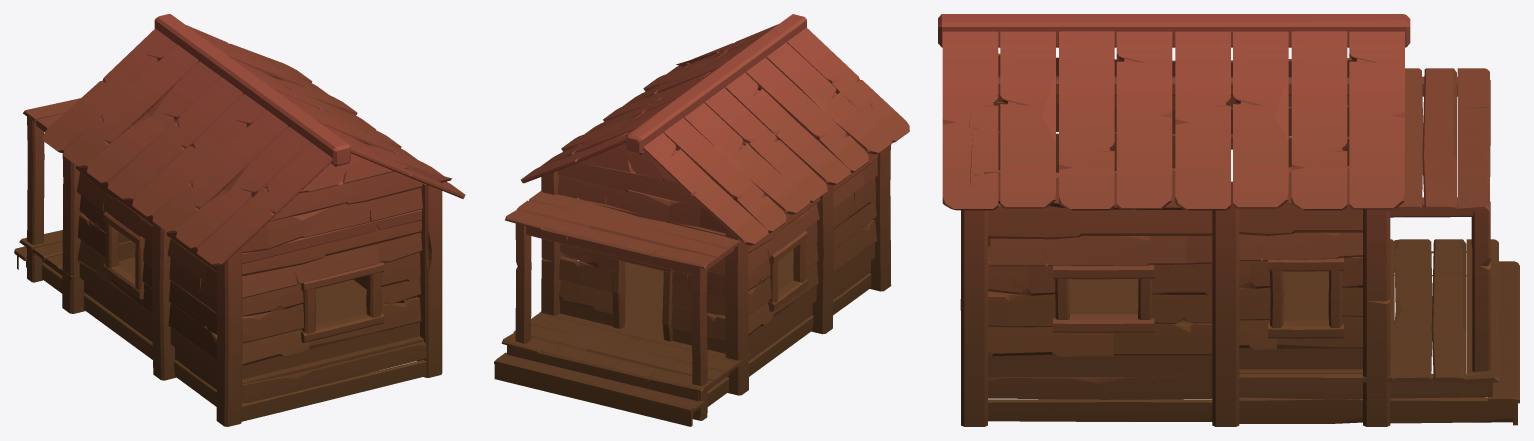
3 renders of one model, left to right at view 1: azimuth 30°, elevation 25°; view 2: azimuth 150°, elevation 25°; view 3: azimuth 270°, elevation 25°, orthographic. The views are drawn at different scales.
Visible parts, largest first — view 1: WoodenHouse2; view 2: WoodenHouse2; view 3: WoodenHouse2.
Boxes of the visible parts, x1,y1,x2,y2 form: WoodenHouse2: [14, 14, 465, 426]; WoodenHouse2: [494, 14, 909, 426]; WoodenHouse2: [938, 14, 1519, 426].
Bounding box in the file's own units: 308 × 300 × 466.
Materials: 1 (1 with a texture image).
